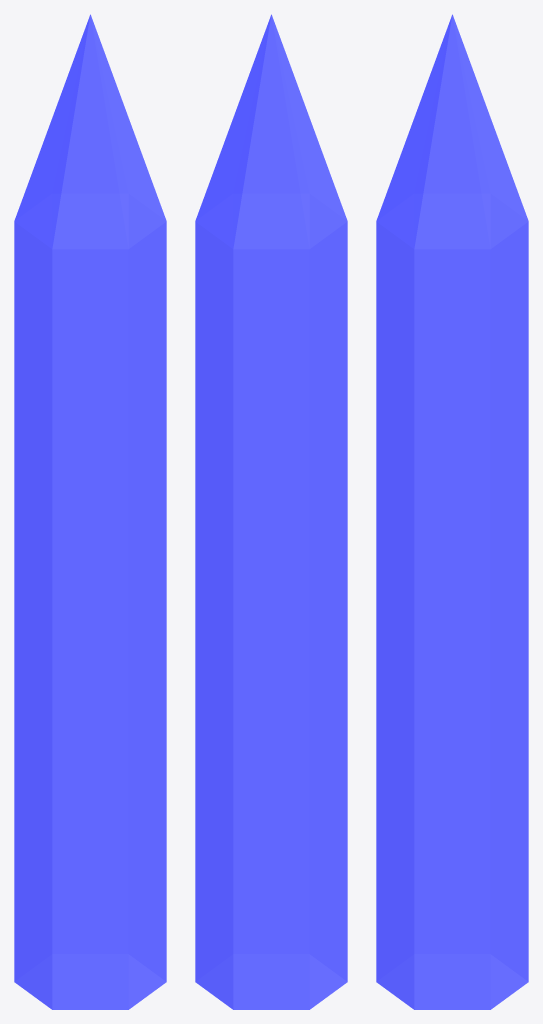
The model's file is Crystals2.glb.
3 views of the same model, side by side, from view 1: azimuth 30°, elevation 25°; view 2: azimuth 150°, elevation 25°; view 3: azimuth 270°, elevation 25° (orthographic).
Parts seen in each view (by area): view 1: Cylinder; view 2: Cylinder; view 3: Cylinder.
Boxes of the visible parts, box(x1,y1,x2,y2) form: Cylinder: box(14, 14, 166, 1009); Cylinder: box(195, 14, 347, 1009); Cylinder: box(376, 14, 528, 1009).
Bounding box in the file's own units: 1.73 × 14 × 2.
